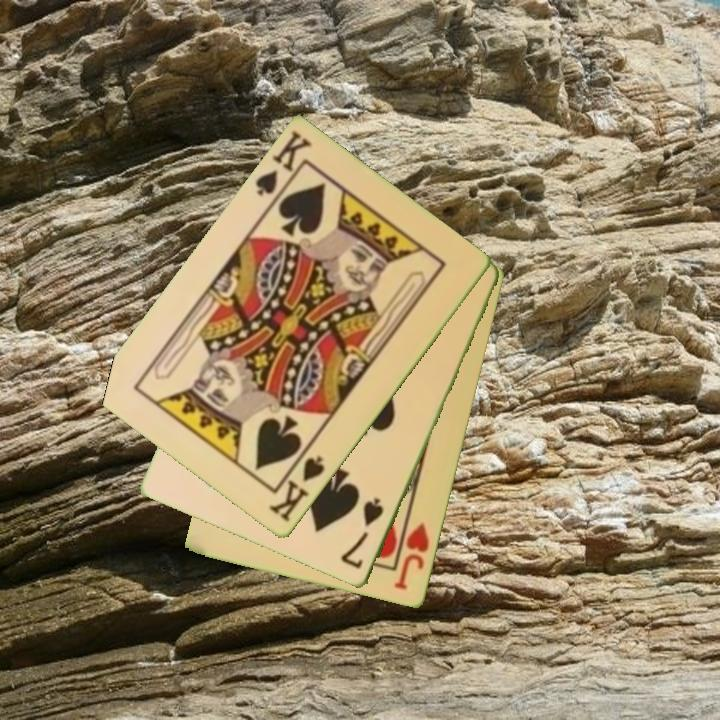7s: (337, 494, 387, 573)
Jh: (391, 511, 433, 593)
Ks: (251, 128, 316, 210), (265, 452, 328, 526)
